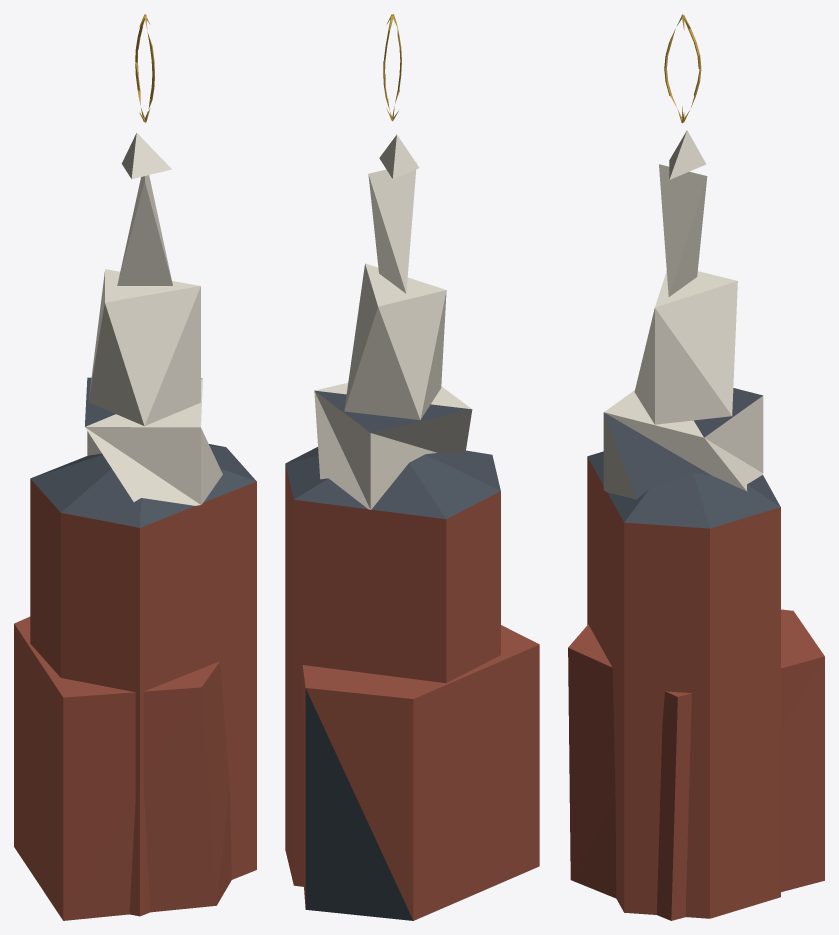
Rendered from montelbaanstoren-amsterdam.lod2.glb.
3 renders of one model, left to right at view 1: azimuth 30°, elevation 25°; view 2: azimuth 150°, elevation 25°; view 3: azimuth 270°, elevation 25°, orthographic.
Parts seen in each view (by area): view 1: lod2; view 2: lod2; view 3: lod2.
Boxes of the visible parts, x1,y1,x2,y2 form: lod2: (14,14,256,920); lod2: (285,14,539,920); lod2: (568,14,824,920).
Size of the model in its own units: 11.58 by 43.98 by 11.94.
